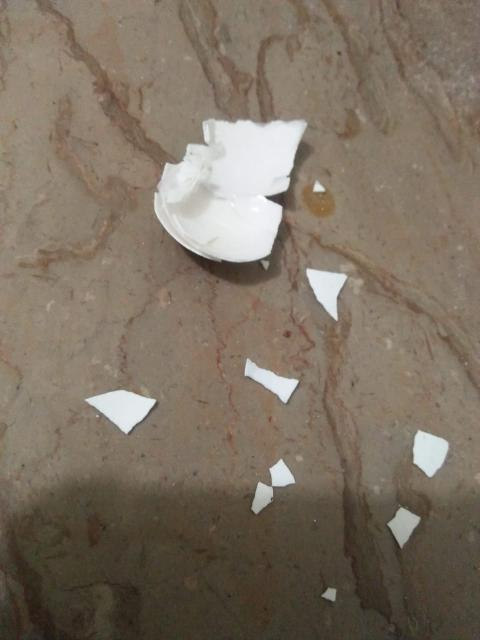Roto: (153, 116, 308, 264)
